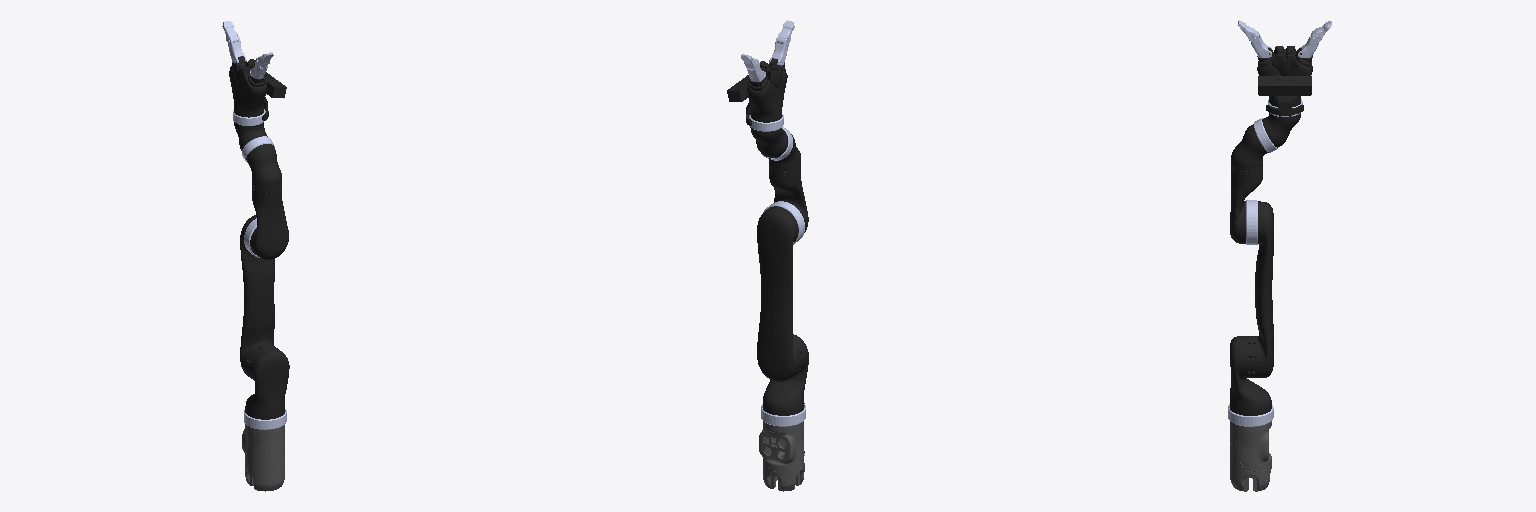
The robot description file, URDF, robot "ADA":
<robot
  name="ADA">
  <link
    name="base_link">
    <inertial>
      <origin
        xyz="0 -0.0018698 0.00076788"
        rpy="0 0 0" />
      <mass
        value="0.64" />
      <inertia
        ixx="0.00059853"
        ixy="0"
        ixz="0"
        iyy="0.00058911"
        iyz="0"
        izz="0.00031086" />
    </inertial>
    <visual>
      <origin
        xyz="0 0 0"
        rpy="0 0 0" />
      <geometry>
        <mesh
          filename="package://ada_description/meshes/base_link.STL" />
      </geometry>
      <material
        name="">
        <color
          rgba="0.4 0.4 0.4 1" />
      </material>
    </visual>
    <collision>
      <origin
        xyz="0 0 0"
        rpy="0 0 0" />
      <geometry>
        <mesh
          filename="package://ada_description/meshes/base_link.STL" />
      </geometry>
    </collision>
  </link>
  <link
    name="Shoulder_Link">
    <inertial>
      <origin
        xyz="0 0.015563 0.072664"
        rpy="0 0 0" />
      <mass
        value="0.15215" />
      <inertia
        ixx="0.00035346"
        ixy="0"
        ixz="0"
        iyy="0.00038125"
        iyz="0"
        izz="0.00016029" />
    </inertial>
    <visual>
      <origin
        xyz="0 0 0"
        rpy="0 0 0" />
      <geometry>
        <mesh
          filename="package://ada_description/meshes/Shoulder_Link.STL" />
      </geometry>
      <material
        name="">
        <color
          rgba="0.2 0.2 0.2 1" />
      </material>
    </visual>
    <collision>
      <origin
        xyz="0 0 0"
        rpy="0 0 0" />
      <geometry>
        <mesh
          filename="package://ada_description/meshes/Shoulder_Link.STL" />
      </geometry>
    </collision>
  </link>
  <joint
    name="j1"
    type="continuous">
    <origin
      xyz="0 0 0.09875"
      rpy="0 0 3.14159" />
    <parent
      link="base_link" />
    <child
      link="Shoulder_Link" />
    <axis
      xyz="0 0 -1" />
    <!--
    <limit
      lower="-3.14"
      upper="3.14"
      effort="0"
      velocity="0.94" />
    -->
    <limit
      effort="18"
      velocity="0.94" />
  </joint>
  <transmission name="Shoulder_Joint_Transmission">
    <type>transmission_interface/SimpleTransmission</type>
    <joint name="j1">
      <hardwareInterface>VelocityJointInterface</hardwareInterface>
    </joint>
    <actuator name="Shoulder_Motor">
      <mechanicalReduction>136</mechanicalReduction>
    </actuator>
  </transmission>
  <link
    name="Arm_Link">
    <inertial>
      <origin
        xyz="-0.14503 0 -0.02688"
        rpy="0 0 0" />
      <mass
        value="0.2936" />
      <inertia
        ixx="0.00020244"
        ixy="0"
        ixz="0"
        iyy="0.0033623"
        iyz="0"
        izz="0.0034884" />
    </inertial>
    <visual>
      <origin
        xyz="0 0 0"
        rpy="0 0 0" />
      <geometry>
        <mesh
          filename="package://ada_description/meshes/Arm_Link.STL" />
      </geometry>
      <material
        name="">
        <color
          rgba="0.2 0.2 0.2 1" />
      </material>
    </visual>
    <collision>
      <origin
        xyz="0 0 0"
        rpy="0 0 0" />
      <geometry>
        <mesh
          filename="package://ada_description/meshes/Arm_Link.STL" />
      </geometry>
    </collision>
  </link>
  <joint
    name="j2"
    type="revolute">
    <origin
      xyz="0 -0.00175 0.11875"
      rpy="1.5708 -1.5708 3.1416" />
    <parent
      link="Shoulder_Link" />
    <child
      link="Arm_Link" />
    <axis
      xyz="0 0 1" />
    <!--
    <limit
      lower="-3.92"
      upper="0.78"
      effort="0"
      velocity="0.94" />
    -->
    <limit
      lower="0.785"
      upper="5.4981853"
      effort="18"
      velocity="0.94" />
  </joint>
  <transmission name="Arm_Joint_Transmission">
    <type>transmission_interface/SimpleTransmission</type>
    <joint name="j2">
      <hardwareInterface>VelocityJointInterface</hardwareInterface>
    </joint>
    <actuator name="Arm_Motor">
      <mechanicalReduction>136</mechanicalReduction>
    </actuator>
  </transmission>
  <link
    name="Forearm_Link">
    <inertial>
      <origin
        xyz="0 -0.04006 -0.021871"
        rpy="0 0 0" />
      <mass
        value="0.12259" />
      <inertia
        ixx="0.00024901"
        ixy="0"
        ixz="0"
        iyy="0"
        iyz="0"
        izz="0.00028426" />
    </inertial>
    <visual>
      <origin
        xyz="0 0 0"
        rpy="0 0 0" />
      <geometry>
        <mesh
          filename="package://ada_description/meshes/Forearm_Link.STL" />
      </geometry>
      <material
        name="">
        <color
          rgba="0.2 0.2 0.2 1" />
      </material>
    </visual>
    <collision>
      <origin
        xyz="0 0 0"
        rpy="0 0 0" />
      <geometry>
        <mesh
          filename="package://ada_description/meshes/Forearm_Link.STL" />
      </geometry>
    </collision>
  </link>
  <joint
    name="j3"
    type="revolute">
    <origin
      xyz="-0.29 0 0"
      rpy="3.1416 0 -1.5708" />
    <parent
      link="Arm_Link" />
    <child
      link="Forearm_Link" />
    <axis
      xyz="0 0 1" />
    <!--  
    <limit
      lower="-0.87"
      upper="4.01"
      effort="0"
      velocity="0.94" />
    -->
    <limit
      lower="0.65"
      upper="5.6331853"
      effort="18"
      velocity="0.94" />
  </joint>
  <transmission name="Forearm_Joint_Transmission">
    <type>transmission_interface/SimpleTransmission</type>
    <joint name="j3">
      <hardwareInterface>VelocityJointInterface</hardwareInterface>
    </joint>
    <actuator name="Forearm_Motor">
      <mechanicalReduction>136</mechanicalReduction>
    </actuator>
  </transmission>
  <link
    name="Wrist_1_Link">
    <inertial>
      <origin
        xyz="0 -0.0082688 -0.038029"
        rpy="0 0 0" />
      <mass
        value="0.03694" />
      <inertia
        ixx="0"
        ixy="0"
        ixz="0"
        iyy="0"
        iyz="0"
        izz="0" />
    </inertial>
    <visual>
      <origin
        xyz="0 0 0"
        rpy="0 0 0" />
      <geometry>
        <mesh
          filename="package://ada_description/meshes/Wrist_1_Link.STL" />
      </geometry>
      <material
        name="">
        <color
          rgba="0.2 0.2 0.2 1" />
      </material>
    </visual>
    <collision>
      <origin
        xyz="0 0 0"
        rpy="0 0 0" />
      <geometry>
        <mesh
          filename="package://ada_description/meshes/Wrist_1_Link.STL" />
      </geometry>
    </collision>
  </link>
  <joint
    name="j4"
    type="continuous">
    <origin
      xyz="0 -0.12325 -0.00875"
      rpy="1.5708 -3.1416 -3.1416" />
    <parent
      link="Forearm_Link" />
    <child
      link="Wrist_1_Link" />
    <axis
      xyz="0 0 1" />
    <!--
    <limit
      lower="-3.14"
      upper="3.14"
      effort="8"
      velocity="2.0" />
    -->
    <limit
      effort="0"
      velocity="2.0" />
  </joint>
  <transmission name="Wrist_1_Joint_Transmission">
    <type>transmission_interface/SimpleTransmission</type>
    <joint name="j4">
      <hardwareInterface>VelocityJointInterface</hardwareInterface>
    </joint>
    <actuator name="Wrist_1_Motor">
      <mechanicalReduction>110</mechanicalReduction>
    </actuator>
  </transmission>
  <link
    name="Wrist_2_Link">
    <inertial>
      <origin
        xyz="0 0.0082685 -0.038029"
        rpy="0 0 0" />
      <mass
        value="0.036939" />
      <inertia
        ixx="0"
        ixy="0"
        ixz="0"
        iyy="0"
        iyz="0"
        izz="0" />
    </inertial>
    <visual>
      <origin
        xyz="0 0 0"
        rpy="0 0 3.14159" />
      <geometry>
        <mesh
          filename="package://ada_description/meshes/Wrist_2_Link.STL" />
      </geometry>
      <material
        name="">
        <color
          rgba="0.2 0.2 0.2 1" />
      </material>
    </visual>
    <collision>
      <origin
        xyz="0 0 0"
        rpy="0 0 3.14159" />
      <geometry>
        <mesh
          filename="package://ada_description/meshes/Wrist_2_Link.STL" />
      </geometry>
    </collision>
  </link>
  <joint
    name="j5"
    type="continuous">
    <origin
      xyz="0 -0.037029 -0.064136"
      rpy="1.0472 0 -3.1416" />
    <parent
      link="Wrist_1_Link" />
    <child
      link="Wrist_2_Link" />
    <axis
      xyz="0 0 1" />
    <!--
    <limit
      lower="-3.14"
      upper="3.14"
      effort="0"
      velocity="2.0" />
    -->
    <limit
      effort="8"
      velocity="2.0" />
  </joint>
  <transmission name="Wrist_2_Joint_Transmission">
    <type>transmission_interface/SimpleTransmission</type>
    <joint name="j5">
      <hardwareInterface>VelocityJointInterface</hardwareInterface>
    </joint>
    <actuator name="Wrist_2_Motor">
      <mechanicalReduction>110</mechanicalReduction>
    </actuator>
  </transmission>
  <link
    name="Hand_Link">
    <inertial>
      <origin
        xyz="0.0015134 0 -0.074456"
        rpy="0 0 0" />
      <mass
        value="0.4" />
      <inertia
        ixx="0.00020901"
        ixy="0"
        ixz="0"
        iyy="0.00015498"
        iyz="0"
        izz="0.00012507" />
    </inertial>
    <visual>
      <origin
        xyz="0 0 0"
        rpy="0 0 0" />
      <geometry>
        <mesh
          filename="package://ada_description/meshes/Hand_Link_camera.STL" />
      </geometry>
      <material
        name="">
        <color
          rgba="0.2 0.2 0.2 1" />
      </material>
    </visual>
    <collision>
      <origin
        xyz="0 0 0"
        rpy="0 0 0" />
      <geometry>
        <mesh
          filename="package://ada_description/meshes/Hand_Link_camera.STL" />
      </geometry>
    </collision>
  </link>
  <joint
    name="j6"
    type="continuous">
    <origin
      xyz="0 -0.037029 -0.064136"
      rpy="-1.0472 0 0" />
    <parent
      link="Wrist_2_Link" />
    <child
      link="Hand_Link" />
    <axis
      xyz="0 0 1" />
    <!--
    <limit
      lower="-3.14"
      upper="3.14"
      effort="0"
      velocity="2.0" />
    -->
    <limit
      effort="8"
      velocity="2.0" />
  </joint>
  <transmission name="Hand_Joint_Transmission">
    <type>transmission_interface/SimpleTransmission</type>
    <joint name="j6">
      <hardwareInterface>VelocityJointInterface</hardwareInterface>
    </joint>
    <actuator name="Hand_Motor">
      <mechanicalReduction>110</mechanicalReduction>
    </actuator>
  </transmission>
  <link
    name="Finger_1_Proximal_Link">
    <inertial>
      <origin
        xyz="-0.00894704183784709 -0.0181466381953971 0"
        rpy="0 0 0" />
      <mass
        value="0.0106365590225629" />
      <inertia
        ixx="0"
        ixy="0"
        ixz="0"
        iyy="0"
        iyz="0"
        izz="0" />
    </inertial>
    <visual>
      <origin
        xyz="0 0 0"
        rpy="0 0 0" />
      <geometry>
        <mesh
          filename="package://ada_description/meshes/Finger_1_Proximal_Link.STL" />
      </geometry>
      <material
        name="">
        <color
          rgba="0.792156862745098 0.819607843137255 0.933333333333333 1" />
      </material>
    </visual>
    <collision>
      <origin
        xyz="0 0 0"
        rpy="0 0 0" />
      <geometry>
        <mesh
          filename="package://ada_description/meshes/Finger_1_Proximal_Link.STL" />
      </geometry>
    </collision>
  </link>
  <joint
    name="f1"
    type="revolute">
    <origin
      xyz="0.0024957 -0.030948 -0.11482"
      rpy="1.5708 0.56392 1.5708" />
    <parent
      link="Hand_Link" />
    <child
      link="Finger_1_Proximal_Link" />
    <axis
      xyz="0 0 1" />
    <limit
      lower="0"
      upper="1.20"
      effort="1.2"
      velocity="0.785398163" />
  </joint>
  <transmission name="Finger_1_Proximal_Joint_Transmission">
    <type>transmission_interface/SimpleTransmission</type>
    <joint name="f1">
      <hardwareInterface>VelocityJointInterface</hardwareInterface>
    </joint>
    <actuator name="Finger_1_Proximal_Motor">
      <mechanicalReduction>1</mechanicalReduction>
    </actuator>
  </transmission>
  <link
    name="Finger_1_Distal_Link">
    <inertial>
      <origin
        xyz="-0.0047690584177113 -0.0133399601477665 0"
        rpy="0 0 0" />
      <mass
        value="0.0121939815401302" />
      <inertia
        ixx="0"
        ixy="0"
        ixz="0"
        iyy="0"
        iyz="0"
        izz="0" />
    </inertial>
    <visual>
      <origin
        xyz="0 0 0"
        rpy="0 0 0" />
      <geometry>
        <mesh
          filename="package://ada_description/meshes/Finger_1_Distal_Link.STL" />
      </geometry>
      <material
        name="">
        <color
          rgba="0.792156862745098 0.819607843137255 0.933333333333333 1" />
      </material>
    </visual>
    <collision>
      <origin
        xyz="0 0 0"
        rpy="0 0 0" />
      <geometry>
        <mesh
          filename="package://ada_description/meshes/Finger_1_Distal_Link.STL" />
      </geometry>
    </collision>
  </link>
  <joint
    name="Finger_1_Distal_Joint"
    type="revolute">
    <origin
      xyz="-0.003 -0.044 0"
      rpy="0 0 -0.19199" />
    <parent
      link="Finger_1_Proximal_Link" />
    <child
      link="Finger_1_Distal_Link" />
    <axis
      xyz="0 0 1" />
    <limit
      lower="0"
      upper="1.05"
      effort="1.2"
      velocity="0.785398163" />
    <mimic 
      joint="Finger_1_Proximal_Joint"
      multiplier="0.5" />
  </joint>
  <transmission name="Finger_1_Distal_Joint_Transmission">
    <type>transmission_interface/SimpleTransmission</type>
    <joint name="Finger_1_Distal_Joint">
      <hardwareInterface>VelocityJointInterface</hardwareInterface>
    </joint>
    <actuator name="Finger_1_Distal_Motor">
      <mechanicalReduction>1</mechanicalReduction>
    </actuator>
  </transmission>
  <link
    name="Finger_2_Proximal_Link">
    <inertial>
      <origin
        xyz="-0.00894697932265109 -0.018146678045967 0"
        rpy="0 0 0" />
      <mass
        value="0.0106364391584646" />
      <inertia
        ixx="0"
        ixy="0"
        ixz="0"
        iyy="0"
        iyz="0"
        izz="0" />
    </inertial>
    <visual>
      <origin
        xyz="0 0 0"
        rpy="0 0 0" />
      <geometry>
        <mesh
          filename="package://ada_description/meshes/Finger_2_Proximal_Link.STL" />
      </geometry>
      <material
        name="">
        <color
          rgba="0.792156862745098 0.819607843137255 0.933333333333333 1" />
      </material>
    </visual>
    <collision>
      <origin
        xyz="0 0 0"
        rpy="0 0 0" />
      <geometry>
        <mesh
          filename="package://ada_description/meshes/Finger_2_Proximal_Link.STL" />
      </geometry>
    </collision>
  </link>
  <joint
    name="f2"
    type="revolute">
    <origin
      xyz="0.0024957 0.030948 -0.11482"
      rpy="1.5708 0.56392 -1.5708" />
    <parent
      link="Hand_Link" />
    <child
      link="Finger_2_Proximal_Link" />
    <axis
      xyz="0 0 1" />
    <limit
      lower="0"
      upper="1.20"
      effort="1.2"
      velocity="0.785398163" />
  </joint>
  <transmission name="Finger_2_Proximal_Joint_Transmission">
    <type>transmission_interface/SimpleTransmission</type>
    <joint name="f2">
      <hardwareInterface>VelocityJointInterface</hardwareInterface>
    </joint>
    <actuator name="Finger_2_Proximal_Motor">
      <mechanicalReduction>1</mechanicalReduction>
    </actuator>
  </transmission>
  <link
    name="Finger_2_Distal_Link">
    <inertial>
      <origin
        xyz="-0.00476909654850879 -0.0133398607161451 0"
        rpy="0 0 0" />
      <mass
        value="0.0121939010456702" />
      <inertia
        ixx="0"
        ixy="0"
        ixz="0"
        iyy="0"
        iyz="0"
        izz="0" />
    </inertial>
    <visual>
      <origin
        xyz="0 0 0"
        rpy="0 0 0" />
      <geometry>
        <mesh
          filename="package://ada_description/meshes/Finger_2_Distal_Link.STL" />
      </geometry>
      <material
        name="">
        <color
          rgba="0.792156862745098 0.819607843137255 0.933333333333333 1" />
      </material>
    </visual>
    <collision>
      <origin
        xyz="0 0 0"
        rpy="0 0 0" />
      <geometry>
        <mesh
          filename="package://ada_description/meshes/Finger_2_Distal_Link.STL" />
      </geometry>
    </collision>
  </link>
  <joint
    name="Finger_2_Distal_Joint"
    type="revolute">
    <origin
      xyz="-0.003 -0.044 0"
      rpy="0 0 -0.19199" />
    <parent
      link="Finger_2_Proximal_Link" />
    <child
      link="Finger_2_Distal_Link" />
    <axis
      xyz="0 0 1" />
    <limit
      lower="0"
      upper="1.05"
      effort="1.2"
      velocity="0.785398163" />
    <mimic 
      joint="Finger_1_Proximal_Joint"
      multiplier="0.5" />
  </joint>
  <transmission name="Finger_2_Distal_Joint_Transmission">
    <type>transmission_interface/SimpleTransmission</type>
    <joint name="Finger_2_Distal_Joint">
      <hardwareInterface>VelocityJointInterface</hardwareInterface>
    </joint>
    <actuator name="Finger_2_Distal_Motor">
      <mechanicalReduction>1</mechanicalReduction>
    </actuator>
  </transmission>
  <link
    name="Hand_Ring_Link">
    <inertial>
      <origin
        xyz="0 0 0"
        rpy="0 0 0" />
      <mass
        value="0.4" />
      <inertia
        ixx="0"
        ixy="0"
        ixz="0"
        iyy="0"
        iyz="0"
        izz="0" />
    </inertial>
    <visual>
      <origin
        xyz="0 0 0"
        rpy="0 0 0" />
      <geometry>
        <mesh
          filename="package://ada_description/meshes/Hand_Ring_Link.STL" />
      </geometry>
      <material
        name="">
        <color
          rgba="0.79216 0.81961 0.93333 1" />
      </material>
    </visual>
    <collision>
      <origin
        xyz="0 0 0"
        rpy="0 0 0" />
      <geometry>
        <mesh
          filename="package://ada_description/meshes/Hand_Ring_Link.STL" />
      </geometry>
    </collision>
  </link>
  <joint
    name="Hand_Ring_Joint"
    type="fixed">
    <origin
      xyz="0 0 0"
      rpy="0 0 0" />
    <parent
      link="Hand_Link" />
    <child
      link="Hand_Ring_Link" />
    <axis
      xyz="0 0 0" />
  </joint>
  <link
    name="Wrist_2_Ring_Link">
    <inertial>
      <origin
        xyz="0 0 0"
        rpy="0 0 0" />
      <mass
        value="0.4" />
      <inertia
        ixx="0"
        ixy="0"
        ixz="0"
        iyy="0"
        iyz="0"
        izz="0" />
    </inertial>
    <visual>
      <origin
        xyz="0 0 0"
        rpy="0 0 0" />
      <geometry>
        <mesh
          filename="package://ada_description/meshes/Wrist_2_Ring_Link.STL" />
      </geometry>
      <material
        name="">
        <color
          rgba="0.79216 0.81961 0.93333 1" />
      </material>
    </visual>
    <collision>
      <origin
        xyz="0 0 0"
        rpy="0 0 0" />
      <geometry>
        <mesh
          filename="package://ada_description/meshes/Wrist_2_Ring_Link.STL" />
      </geometry>
    </collision>
  </link>
  <joint
    name="Wrist_2_Ring_Joint"
    type="fixed">
    <origin
      xyz="0 0 0"
      rpy="0 0 0" />
    <parent
      link="Wrist_2_Link" />
    <child
      link="Wrist_2_Ring_Link" />
    <axis
      xyz="0 0 0" />
  </joint>
  <link
    name="Wrist_1_Ring_Link">
    <inertial>
      <origin
        xyz="0 0 0"
        rpy="0 0 0" />
      <mass
        value="0.4" />
      <inertia
        ixx="0"
        ixy="0"
        ixz="0"
        iyy="0"
        iyz="0"
        izz="0" />
    </inertial>
    <visual>
      <origin
        xyz="0 0 0"
        rpy="0 0 0" />
      <geometry>
        <mesh
          filename="package://ada_description/meshes/Wrist_1_Ring_Link.STL" />
      </geometry>
      <material
        name="">
        <color
          rgba="0.79216 0.81961 0.93333 1" />
      </material>
    </visual>
    <collision>
      <origin
        xyz="0 0 0"
        rpy="0 0 0" />
      <geometry>
        <mesh
          filename="package://ada_description/meshes/Wrist_1_Ring_Link.STL" />
      </geometry>
    </collision>
  </link>
  <joint
    name="Wrist_1_Ring_Joint"
    type="fixed">
    <origin
      xyz="0 0 0"
      rpy="0 0 0" />
    <parent
      link="Wrist_1_Link" />
    <child
      link="Wrist_1_Ring_Link" />
    <axis
      xyz="0 0 0" />
  </joint>
  <link
    name="Forearm_Ring_Link">
    <inertial>
      <origin
        xyz="0 0 0"
        rpy="0 0 0" />
      <mass
        value="0.76" />
      <inertia
        ixx="0"
        ixy="0"
        ixz="0"
        iyy="0"
        iyz="0"
        izz="0" />
    </inertial>
    <visual>
      <origin
        xyz="0 0 0"
        rpy="0 0 0" />
      <geometry>
        <mesh
          filename="package://ada_description/meshes/Forearm_Ring_Link.STL" />
      </geometry>
      <material
        name="">
        <color
          rgba="0.79216 0.81961 0.93333 1" />
      </material>
    </visual>
    <collision>
      <origin
        xyz="0 0 0"
        rpy="0 0 0" />
      <geometry>
        <mesh
          filename="package://ada_description/meshes/Forearm_Ring_Link.STL" />
      </geometry>
    </collision>
  </link>
  <joint
    name="Forearm_Ring_Joint"
    type="fixed">
    <origin
      xyz="0 0 0"
      rpy="0 0 0" />
    <parent
      link="Forearm_Link" />
    <child
      link="Forearm_Ring_Link" />
    <axis
      xyz="0 0 0" />
  </joint>
  <link
    name="Arm_Ring_Link">
    <inertial>
      <origin
        xyz="0 0 0"
        rpy="0 0 0" />
      <mass
        value="0.76" />
      <inertia
        ixx="0"
        ixy="0"
        ixz="0"
        iyy="0"
        iyz="0"
        izz="0" />
    </inertial>
    <visual>
      <origin
        xyz="0 0 0"
        rpy="0 0 0" />
      <geometry>
        <mesh
          filename="package://ada_description/meshes/Arm_Ring_Link.STL" />
      </geometry>
      <material
        name="">
        <color
          rgba="0.79216 0.81961 0.93333 1" />
      </material>
    </visual>
    <collision>
      <origin
        xyz="0 0 0"
        rpy="0 0 0" />
      <geometry>
        <mesh
          filename="package://ada_description/meshes/Arm_Ring_Link.STL" />
      </geometry>
    </collision>
  </link>
  <joint
    name="Arm_Ring_Joint"
    type="fixed">
    <origin
      xyz="0 0 0"
      rpy="0 0 0" />
    <parent
      link="Arm_Link" />
    <child
      link="Arm_Ring_Link" />
    <axis
      xyz="0 0 0" />
  </joint>
  <link
    name="Shoulder_Ring_Link">
    <inertial>
      <origin
        xyz="0 0 0"
        rpy="0 0 0" />
      <mass
        value="0.76" />
      <inertia
        ixx="0"
        ixy="0"
        ixz="0"
        iyy="0"
        iyz="0"
        izz="0" />
    </inertial>
    <visual>
      <origin
        xyz="0 0 0"
        rpy="0 0 0" />
      <geometry>
        <mesh
          filename="package://ada_description/meshes/Shoulder_Ring_Link.STL" />
      </geometry>
      <material
        name="">
        <color
          rgba="0.79216 0.81961 0.93333 1" />
      </material>
    </visual>
    <collision>
      <origin
        xyz="0 0 0"
        rpy="0 0 0" />
      <geometry>
        <mesh
          filename="package://ada_description/meshes/Shoulder_Ring_Link.STL" />
      </geometry>
    </collision>
  </link>
  <joint
    name="Shoulder_Ring_Joint"
    type="fixed">
    <origin
      xyz="0 0 0"
      rpy="0 0 0" />
    <parent
      link="Shoulder_Link" />
    <child
      link="Shoulder_Ring_Link" />
    <axis
      xyz="0 0 0" />
  </joint>
</robot>

--- What the picture shows (computed from the rendered views, not written in the file) ---
The picture shows the robot from 3 angles, left to right: view 1: azimuth 30°, elevation 25°; view 2: azimuth 150°, elevation 25°; view 3: azimuth 270°, elevation 25°; orthographic projection.
Model ADA with 17 links and 16 joints (6 revolute, 4 continuous, 6 fixed), rooted at base_link, posed all joints at 0 but 2 set to mid-range because 0 is outside their limits (j2 = 3.14, j3 = 3.14).
Visible links, largest first — view 1: Arm_Link, Shoulder_Link, base_link, Forearm_Link, Hand_Link, Wrist_1_Link; view 2: Arm_Link, base_link, Hand_Link, Shoulder_Link, Forearm_Link, Wrist_2_Link; view 3: Arm_Link, Hand_Link, base_link, Shoulder_Link, Forearm_Link, Wrist_1_Link, Wrist_2_Link, Forearm_Ring_Link.
Boxes of the visible links, x1=… form: Arm_Link: x1=240, y1=215, x2=274, y2=378; Shoulder_Link: x1=245, y1=345, x2=289, y2=419; base_link: x1=242, y1=424, x2=284, y2=491; Forearm_Link: x1=250, y1=186, x2=288, y2=259; Hand_Link: x1=229, y1=56, x2=286, y2=120; Wrist_1_Link: x1=246, y1=144, x2=281, y2=190; Arm_Link: x1=757, y1=206, x2=800, y2=381; base_link: x1=759, y1=421, x2=804, y2=491; Hand_Link: x1=727, y1=58, x2=787, y2=125; Shoulder_Link: x1=763, y1=334, x2=808, y2=415; Forearm_Link: x1=769, y1=166, x2=808, y2=232; Wrist_2_Link: x1=750, y1=127, x2=787, y2=157; Arm_Link: x1=1252, y1=201, x2=1273, y2=377; Hand_Link: x1=1257, y1=46, x2=1312, y2=116; base_link: x1=1230, y1=421, x2=1271, y2=491; Shoulder_Link: x1=1230, y1=336, x2=1271, y2=415; Forearm_Link: x1=1230, y1=167, x2=1262, y2=243; Wrist_1_Link: x1=1231, y1=124, x2=1268, y2=171; Wrist_2_Link: x1=1262, y1=113, x2=1300, y2=147; Forearm_Ring_Link: x1=1246, y1=200, x2=1257, y2=244.
Size in the robot's own frame: 0.105 by 0.2031 by 0.9965 metres.
15 mesh visuals loaded from 17 distinct referenced files (15 binary STL); not drawn: 2 (reference not matched to a file when rendering).
